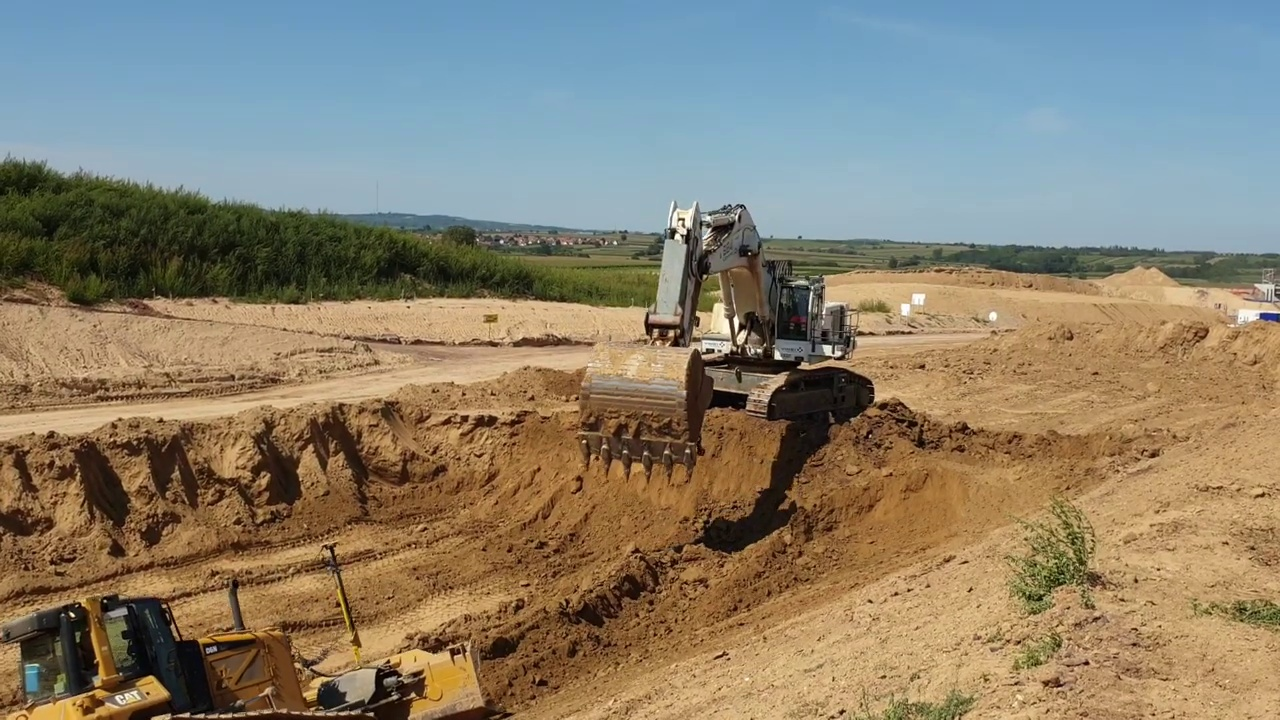bulldozer: (4, 534, 503, 720)
excavator: (574, 196, 876, 485)
